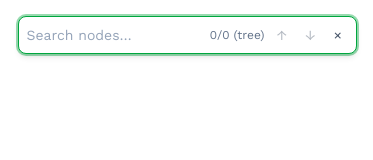
SearchBox (FR6) › case-insensitive substring filter counts matches in the active tree
Type "patrol" into the field at (114, 35), box [26,25,202,45]
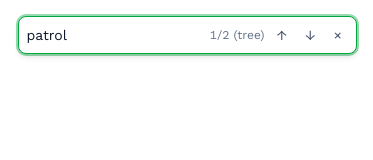
Expected: the element titled "Matches in current tree" shows "1/2", [210,28,230,42]
